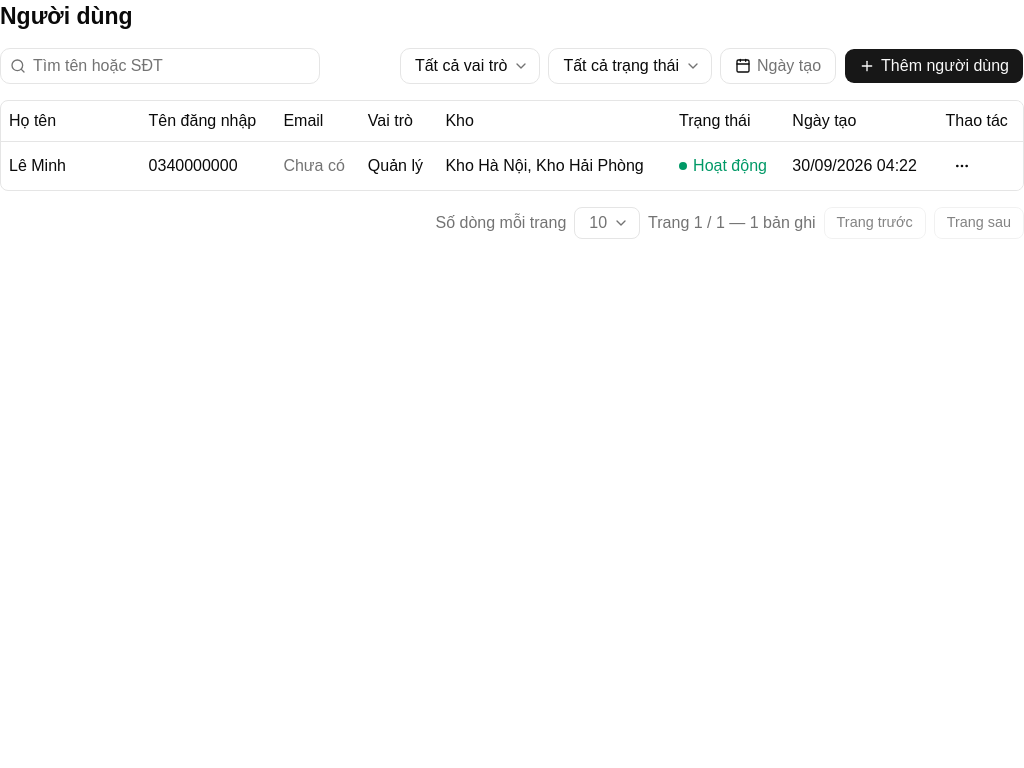
UsersPage — sheet chi tiết người dùng › Khoá từ sheet → hộp xác nhận; khoá xong sheet tự cập nhật thành "Đã khoá" + nút "Mở khoá"
Click the text "0340000000" at [208, 165], box [141,141,275,190]
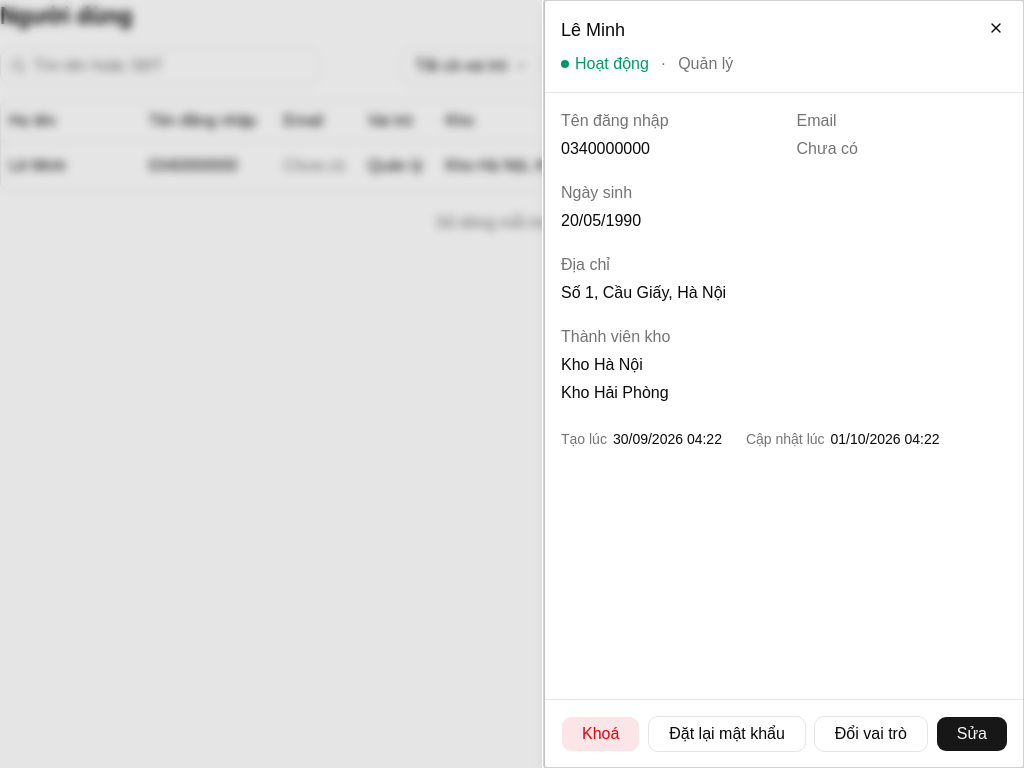
Click the button "Khoá" at [601, 734], box [561,716,640,752]
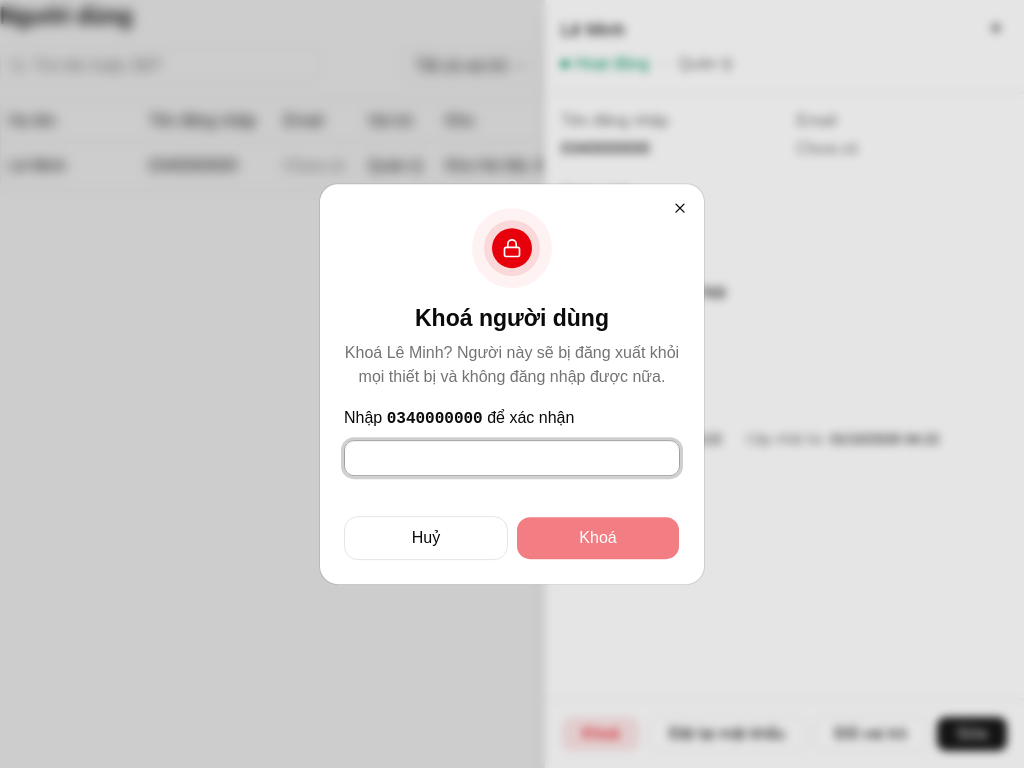
Type "0340000000" into the field labelled "Nhập 0340000000 để xác nhận" at [512, 458], box [344,440,680,476]
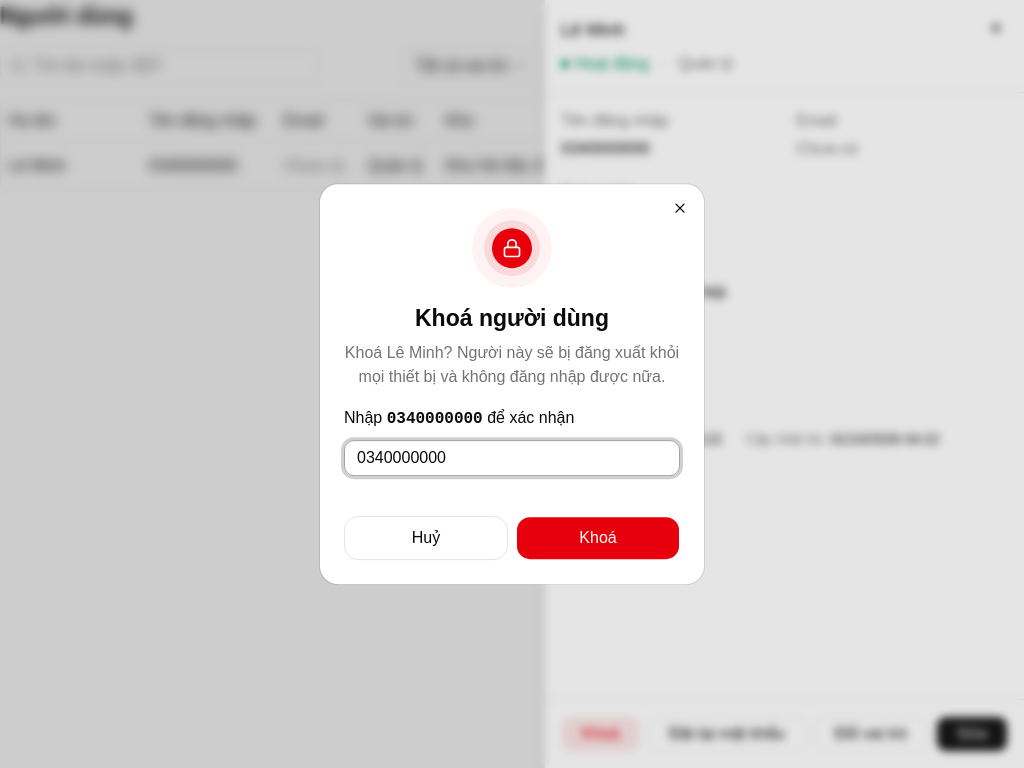
Click the button "Khoá" at [598, 538], box [516,516,680,560]
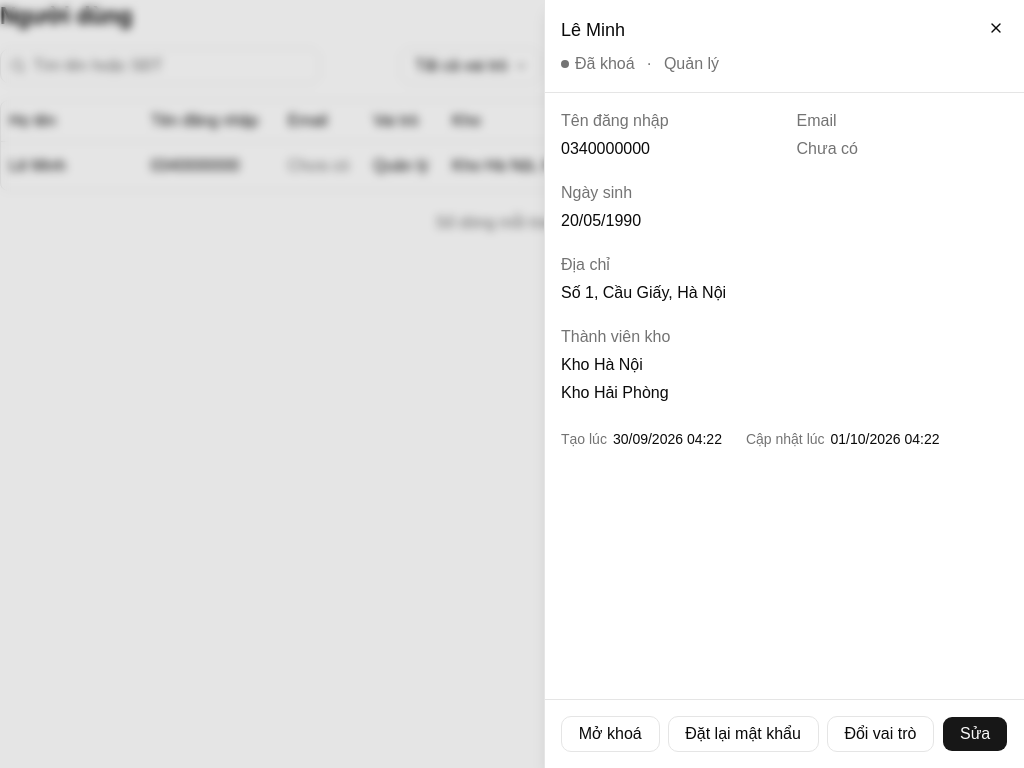
Result: the text "Đã khoá" is shown at [561,52,635,76]
Result: the button "Mở khoá" is shown at [561,716,660,752]
